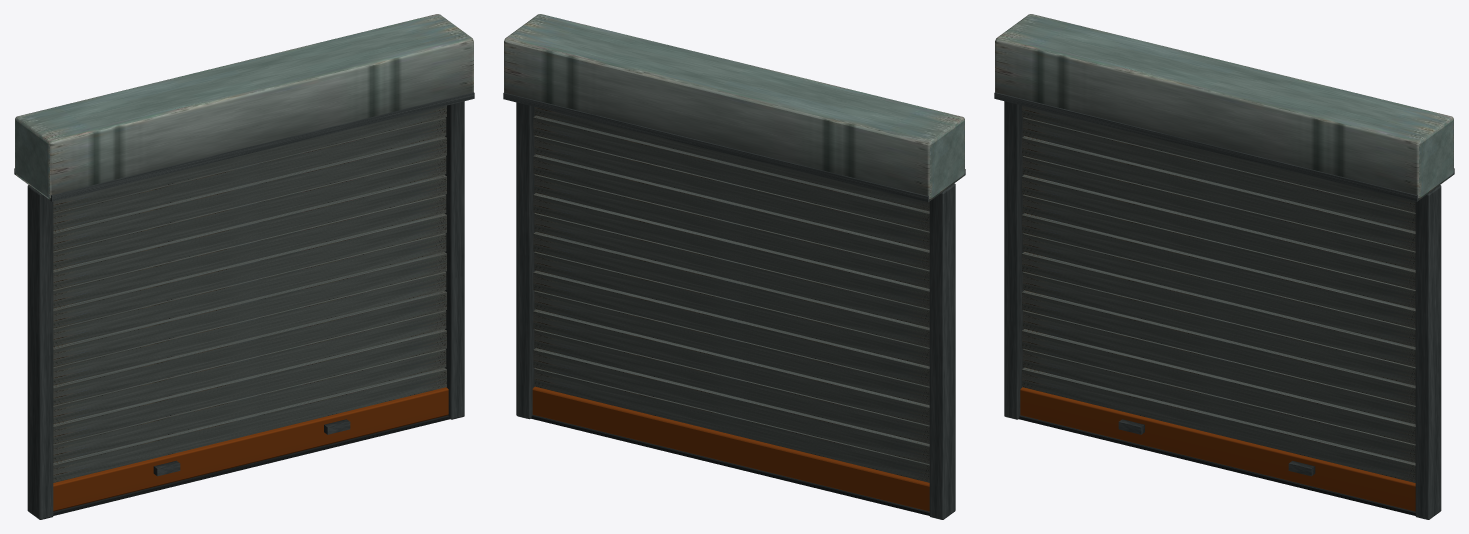
Rendered from roll_shutter.glb.
3 views of the same model, side by side, from view 1: azimuth 30°, elevation 25°; view 2: azimuth 150°, elevation 25°; view 3: azimuth 330°, elevation 25° (orthographic).
Parts seen in each view (by area): view 1: RollShutter; view 2: RollShutter; view 3: RollShutter.
Part boxes in pixels (x1,y1,x2,y2): RollShutter: (14, 14, 474, 519); RollShutter: (503, 14, 965, 519); RollShutter: (994, 14, 1454, 519).
Bounding box in the file's own units: 3 × 2.6 × 0.46.
Materials: 2 (1 with a texture image).
